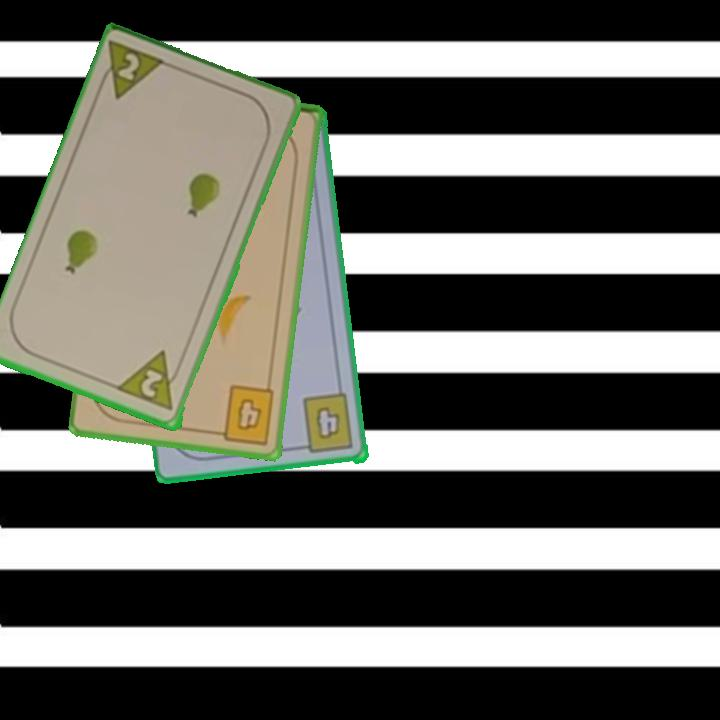2p: (93, 38, 171, 104), (116, 348, 188, 415)
4b: (210, 382, 277, 448), (294, 391, 357, 457)
